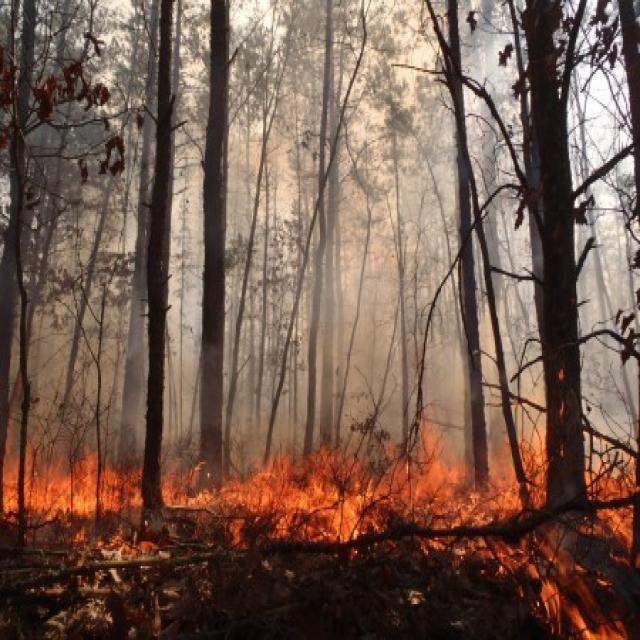Fire: (181, 447, 521, 543), (479, 532, 631, 640), (18, 445, 139, 526), (585, 454, 640, 578)
